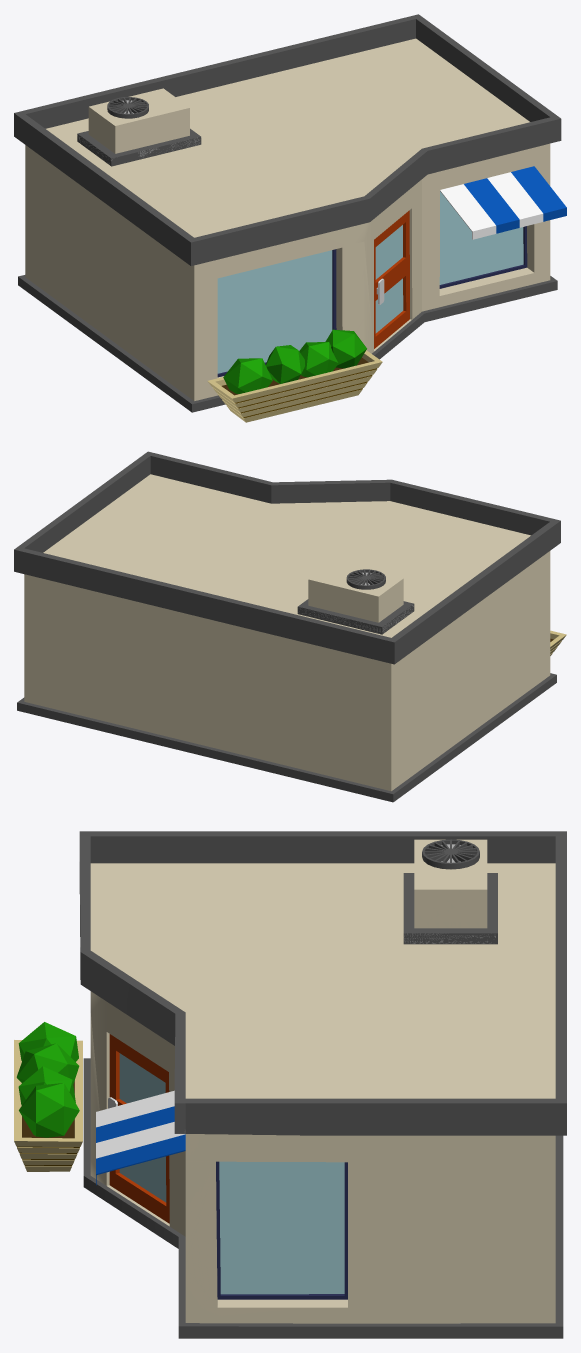
3 renders of one model, top to bottom at view 1: azimuth 30°, elevation 25°; view 2: azimuth 150°, elevation 25°; view 3: azimuth 270°, elevation 25°, orthographic. The views are drawn at different scales.
Parts seen in each view (by area): view 1: pCube1, pCube5, pCube3, pPlatonic3, pPlatonic4, pPlatonic1, pPlatonic2; view 2: pCube1, pCube5; view 3: pCube1, pCube5, pCube3, pPlatonic1, pPlatonic4, pPlatonic3, pPlatonic2.
Part boxes in pixels (box(x1,y1,x2,y2)): pCube1: box(14, 14, 566, 412); pCube5: box(77, 88, 201, 166); pCube3: box(207, 350, 382, 422); pPlatonic3: box(223, 358, 272, 393); pPlatonic4: box(265, 345, 304, 383); pPlatonic1: box(325, 329, 366, 368); pPlatonic2: box(299, 342, 338, 377); pCube1: box(14, 451, 560, 802); pCube5: box(297, 561, 414, 634); pCube1: box(79, 831, 566, 1338); pCube5: box(403, 839, 497, 944); pCube3: box(14, 1040, 82, 1171); pPlatonic1: box(19, 1083, 79, 1137); pPlatonic4: box(16, 1043, 79, 1083); pPlatonic3: box(18, 1022, 78, 1061); pPlatonic2: box(18, 1066, 75, 1105).
Size of the model in its own units: 0.1702 by 0.0785 by 0.1463.
